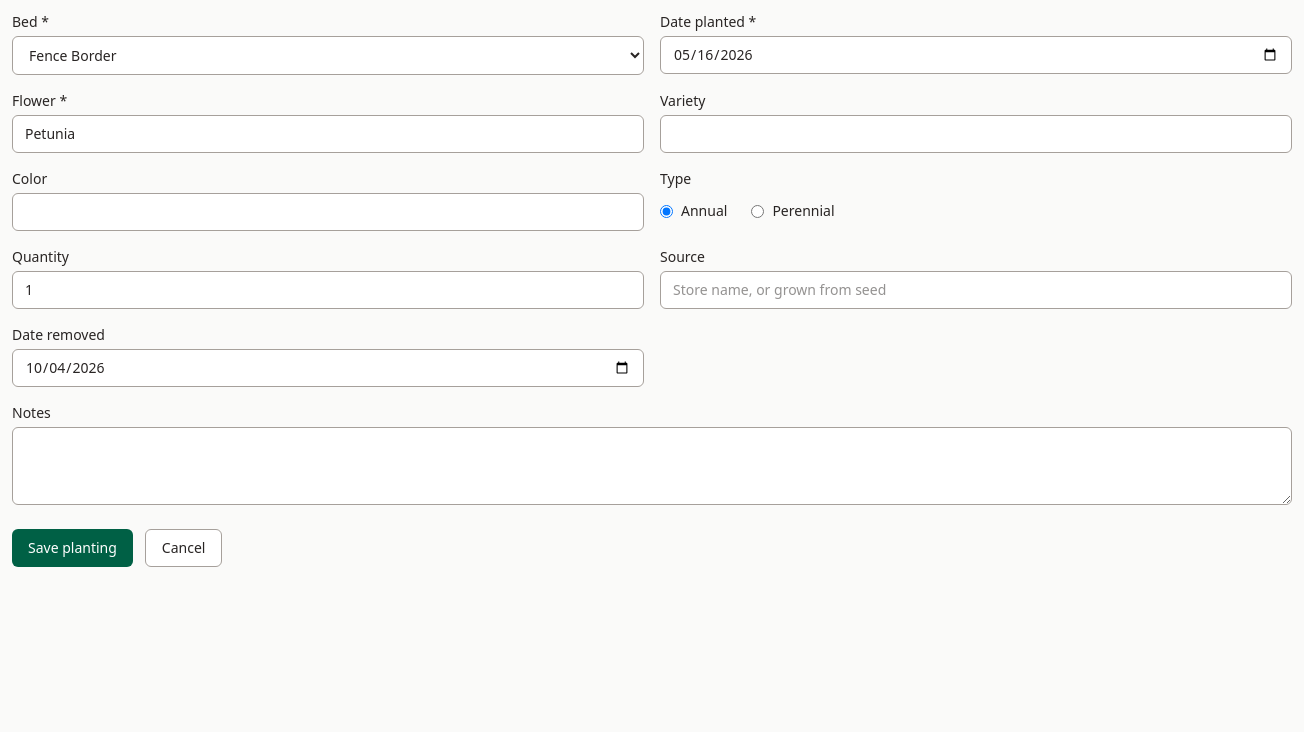
Test: PlantingForm › rejects a removal date before the date planted when editing an ended planting
In the date field labelled "Date removed": (328, 368) [12,349,644,387], type "2026-05-01"
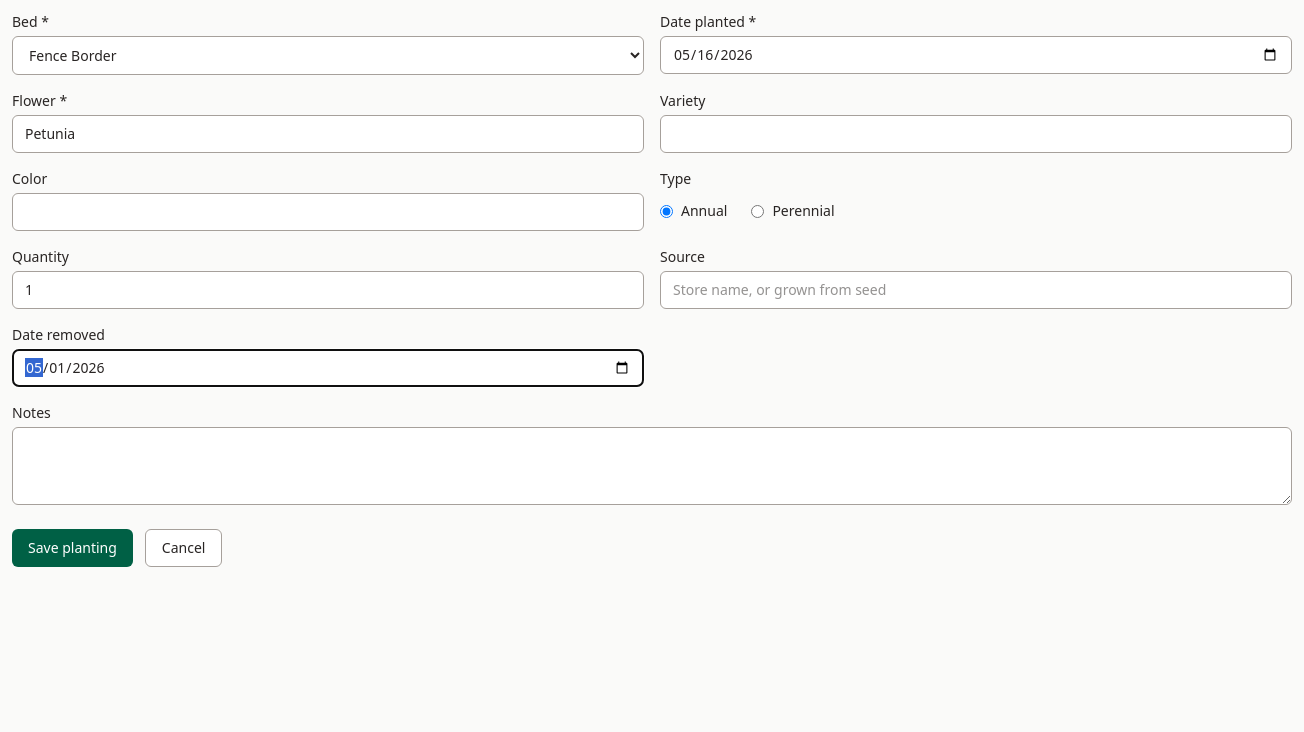
Click the button "Save planting": (72, 548) [12,529,133,567]
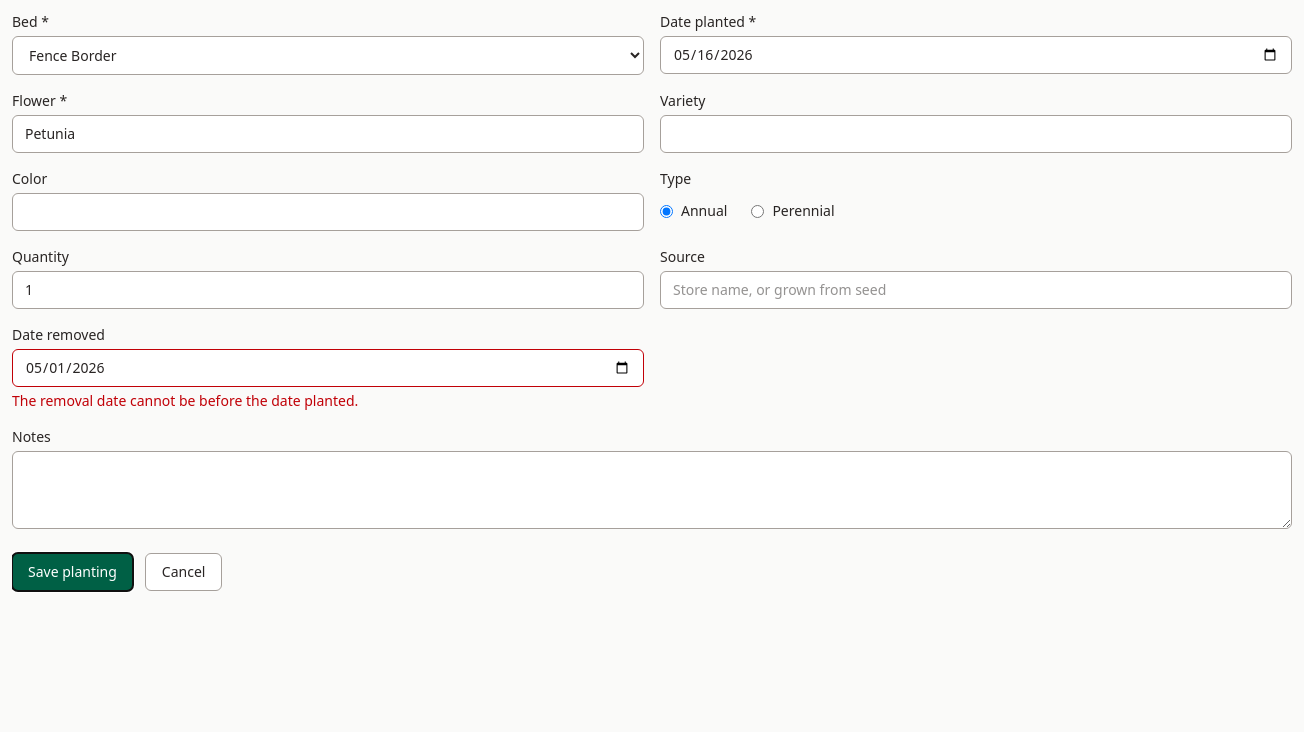
Now the text "The removal date cannot be before the date planted." is shown, box [12,391,358,410]
